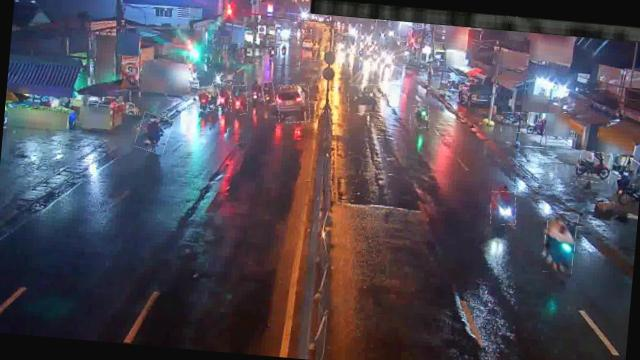Bike: (543, 212, 578, 274), (135, 112, 172, 154), (578, 150, 612, 184), (347, 84, 383, 116), (490, 190, 518, 226), (500, 112, 528, 134), (228, 85, 248, 115), (410, 104, 430, 129), (208, 80, 224, 109), (196, 87, 213, 112), (218, 83, 232, 108), (250, 82, 264, 106), (262, 81, 276, 105)
Car: (276, 82, 311, 124)
